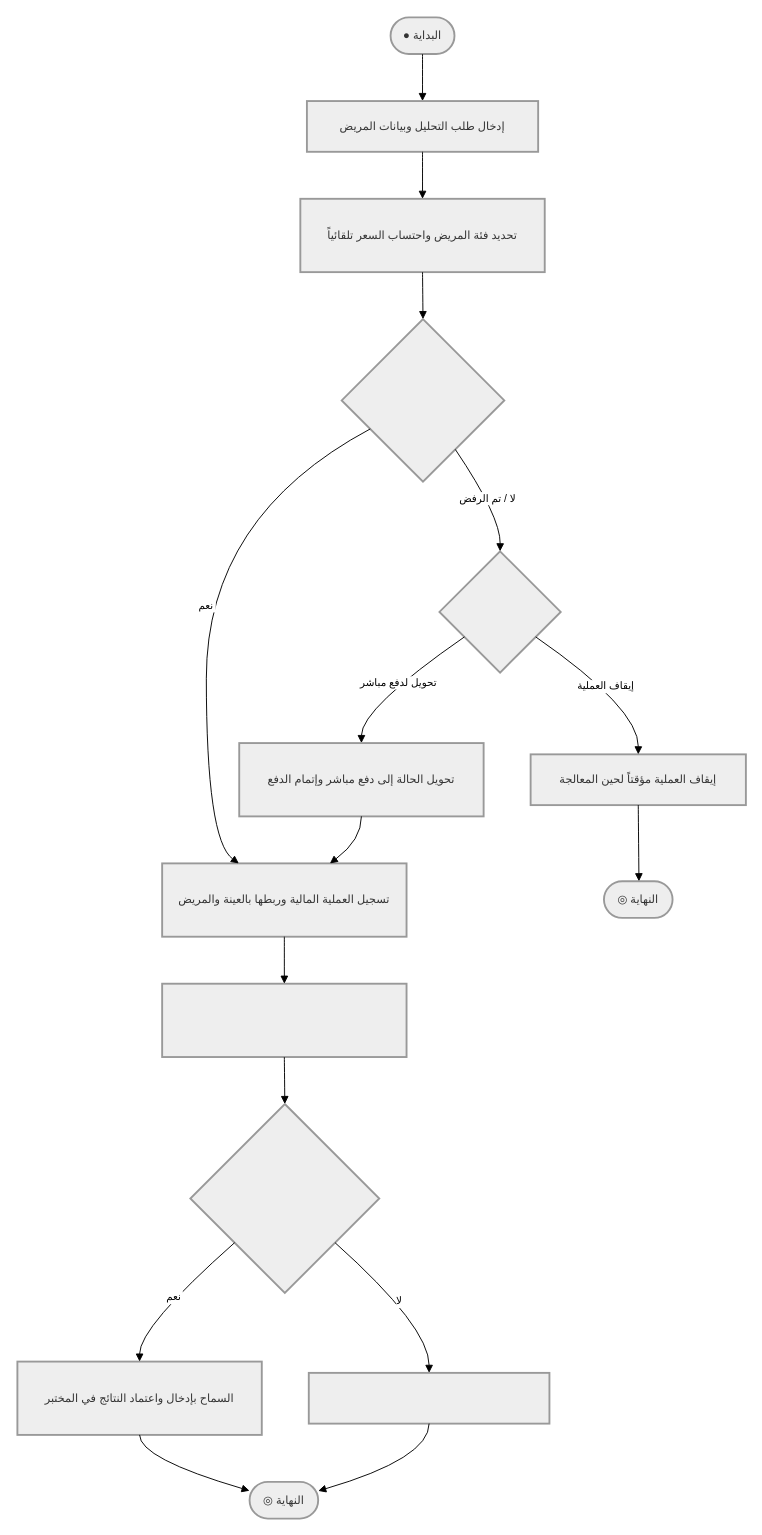
Image size: 762x1535. Some labels were removed from this diagram. Each missing label, with the centre of its shape:
المختبر: محاولة إدخال أو اعتماد النتائج: point (284, 1020)
حظر النظام للعملية وإصدار تنبيه مالي: point (428, 1397)
معالجة الرفض: point (499, 611)
هل الفاتورة مدفوعة ومؤكدة؟: point (284, 1198)
هل تم الدفع أو التغطية؟: point (422, 400)
